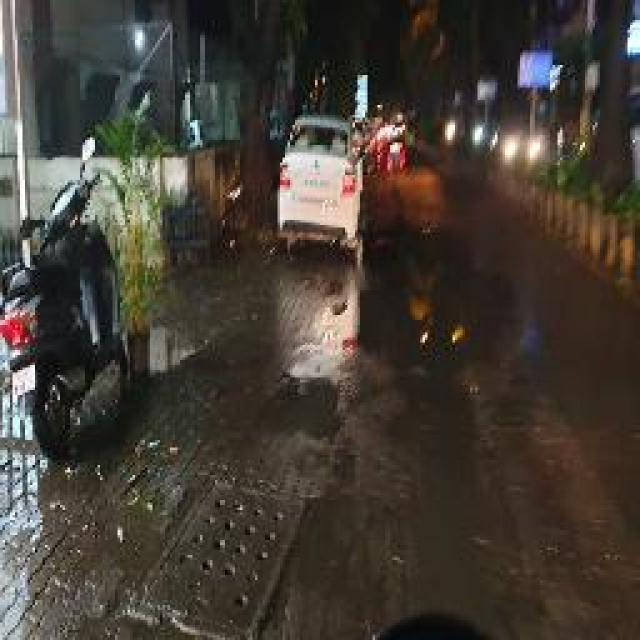stagnation: (348, 260, 550, 406)
